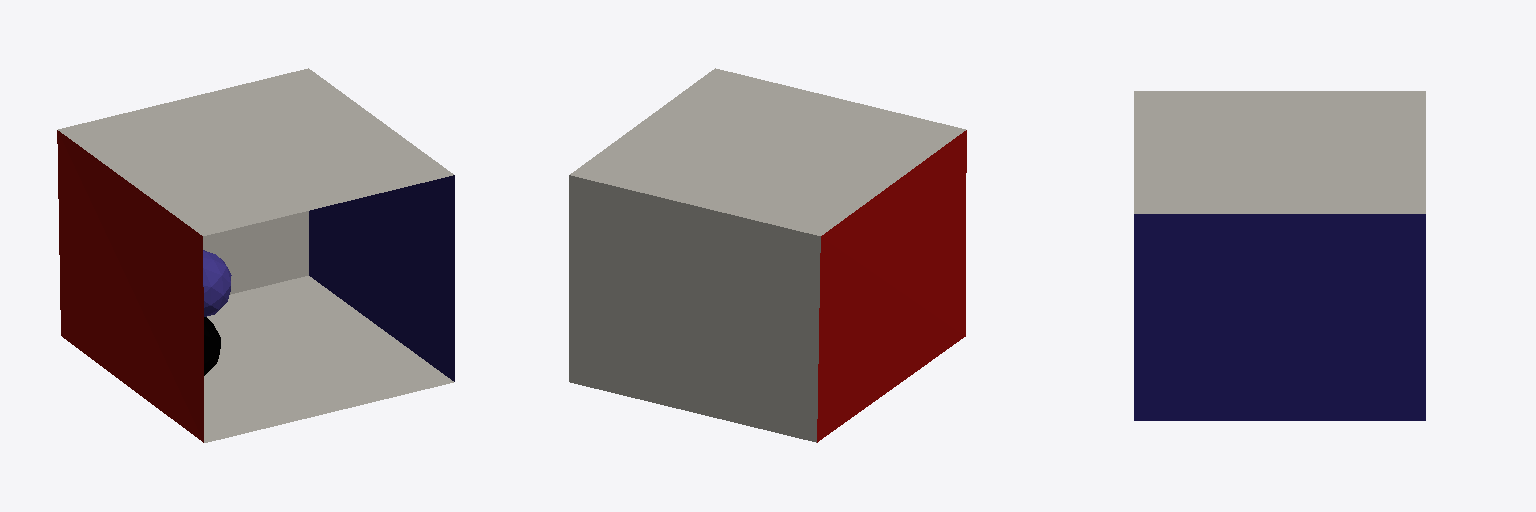
The model's file is CornellBox-Sphere-882.obj.
3 views of the same model, side by side, from view 1: azimuth 30°, elevation 25°; view 2: azimuth 150°, elevation 25°; view 3: azimuth 270°, elevation 25° (orthographic).
Parts seen in each view (by area): view 1: ceiling, leftWall, floor, rightWall, backWall, leftSphere, rightSphere; view 2: backWall, ceiling, leftWall; view 3: rightWall, ceiling.
Part boxes in pixels (x1,y1,x2,y2): ceiling: (58,68,453,235); leftWall: (57,130,203,442); floor: (204,276,453,442); rightWall: (309,175,454,381); backWall: (203,211,308,294); leftSphere: (203,250,231,316); rightSphere: (204,317,220,375); backWall: (569,175,820,442); ceiling: (570,68,965,235); leftWall: (817,130,966,442); rightWall: (1134,214,1425,420); ceiling: (1134,91,1425,213).
Bounding box in the file's own units: 2.02 × 1.59 × 2.03.